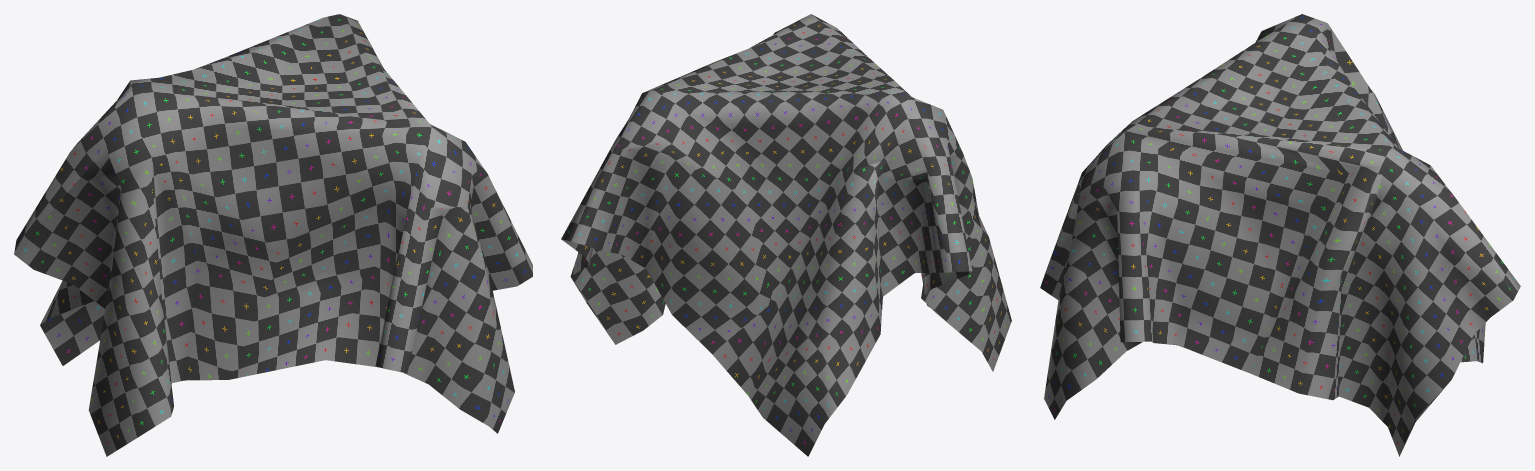
Rendered from large-tank-spike-netting.glb.
3 renders of one model, left to right at view 1: azimuth 30°, elevation 25°; view 2: azimuth 150°, elevation 25°; view 3: azimuth 270°, elevation 25°, orthographic. The views are drawn at different scales.
Visible parts, largest first — view 1: ClothLow; view 2: ClothLow; view 3: ClothLow.
Part boxes in pixels (box(x1,y1,x2,y2)): ClothLow: box(14, 14, 532, 456); ClothLow: box(561, 14, 1011, 456); ClothLow: box(1040, 14, 1520, 456).
Size of the model in its own units: 2.64 by 2.14 by 2.75.
Materials: 1 (1 with a texture image).
